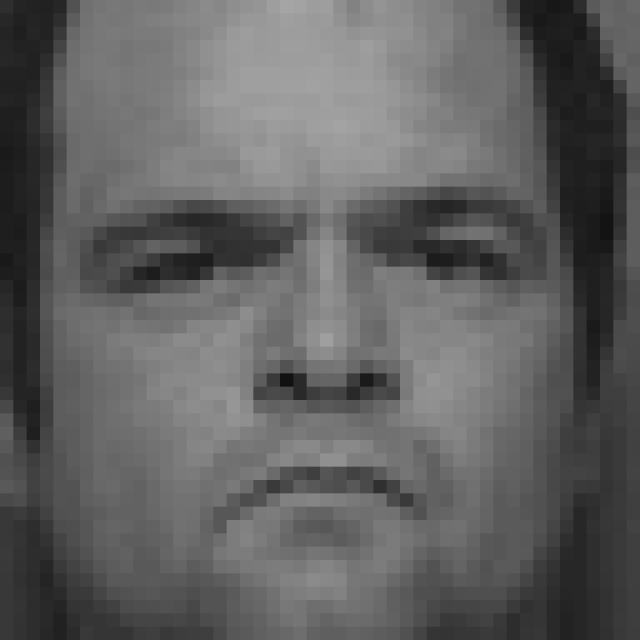neutral: (71, 178, 560, 537)
